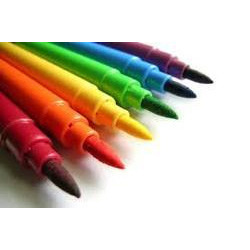Nonrec_Other: (1, 40, 220, 198)
